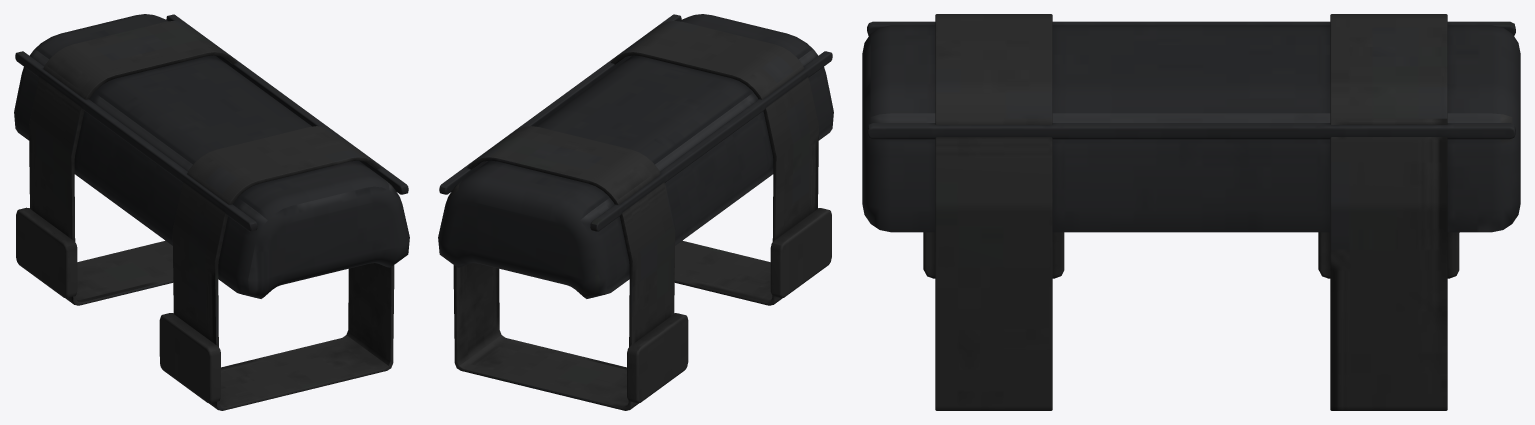
The model's file is stock_cheekpad.glb.
3 views of the same model, side by side, from view 1: azimuth 30°, elevation 25°; view 2: azimuth 150°, elevation 25°; view 3: azimuth 270°, elevation 25° (orthographic). The views are drawn at different scales.
Parts seen in each view (by area): view 1: body; view 2: body; view 3: body.
Part boxes in pixels (bbox=[...]): body: bbox=[14, 14, 409, 410]; body: bbox=[438, 14, 833, 410]; body: bbox=[862, 14, 1520, 410].
Size of the model in its own units: 0.064 by 0.0716 by 0.14.
1 material, 1 textured.
